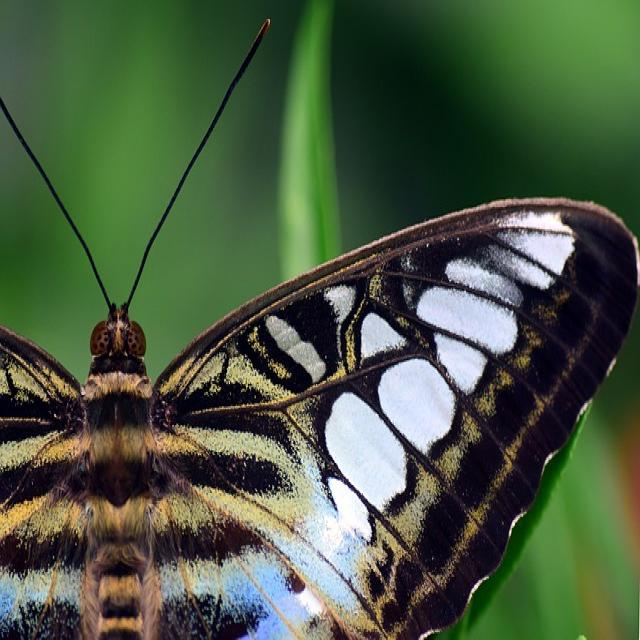butterfly: (0, 200, 640, 638)
